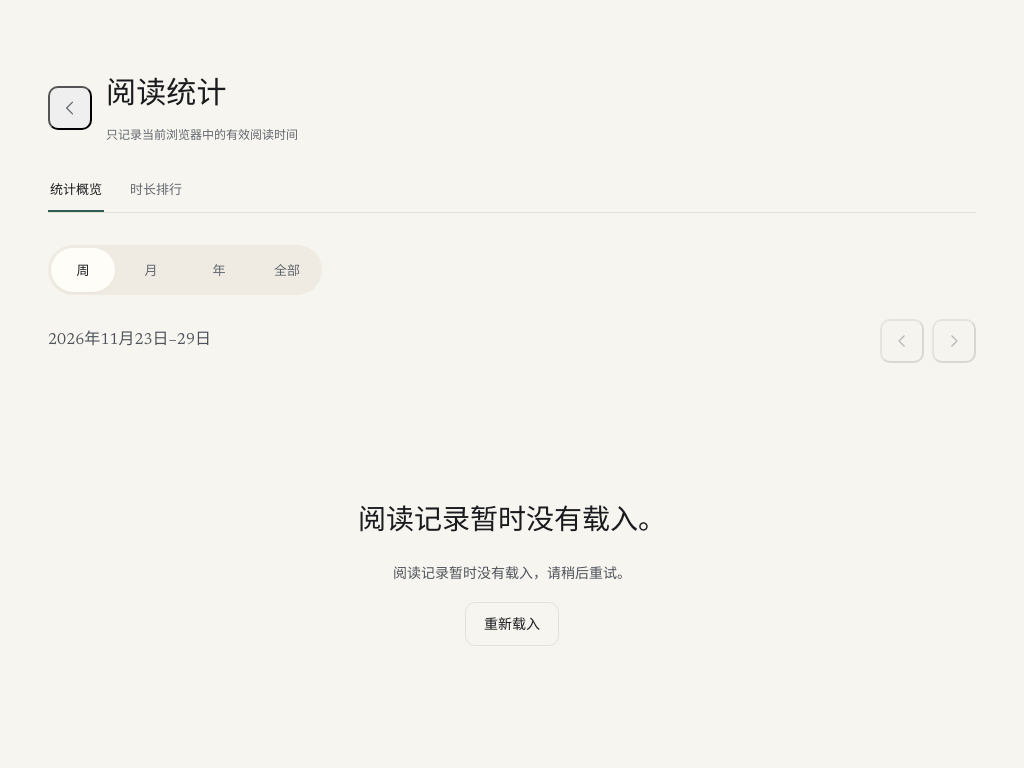
ReadingStatsPage › offers a retry state instead of leaving the page blank
The width and height of the screenshot is (1024, 768).
Expected: the heading "阅读记录暂时没有载入。" is shown, [358,500,666,545]
Click the button "重新载入": point(512, 624) [465,602,559,646]
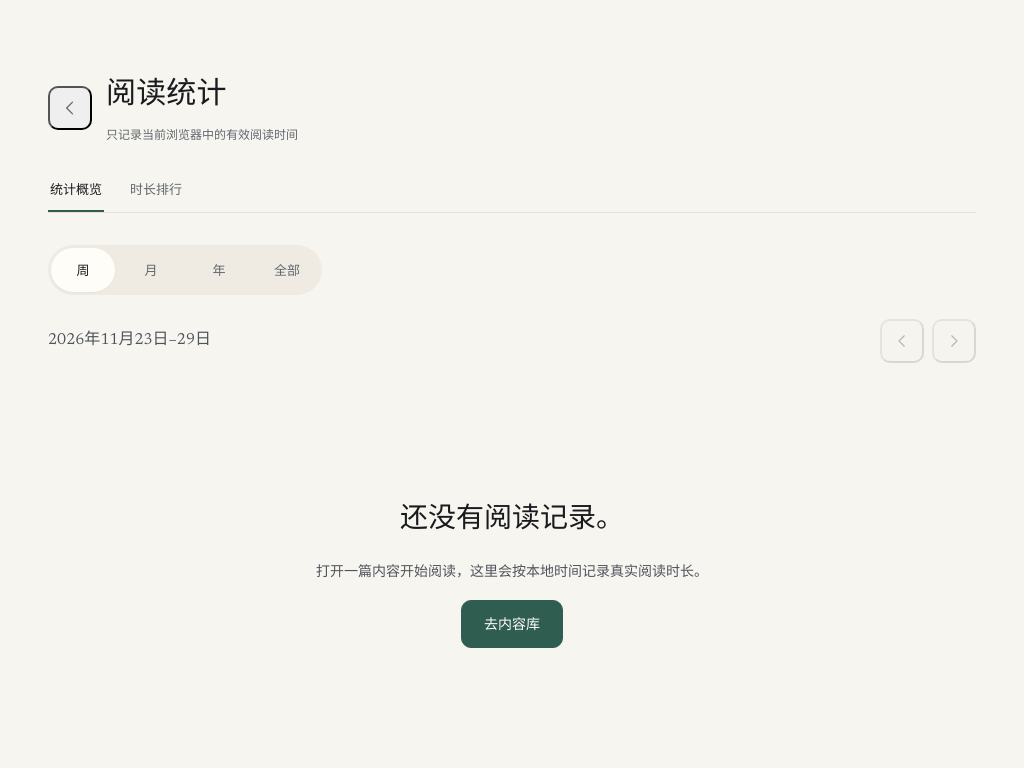
Result: the heading "还没有阅读记录。" is shown at [400,498,624,543]
